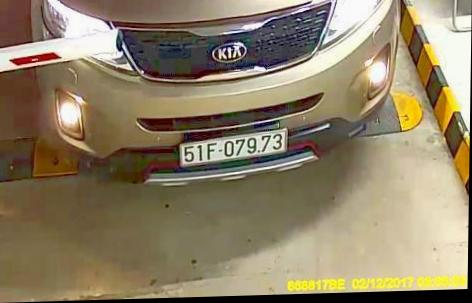License_Plate: (178, 131, 287, 164)
